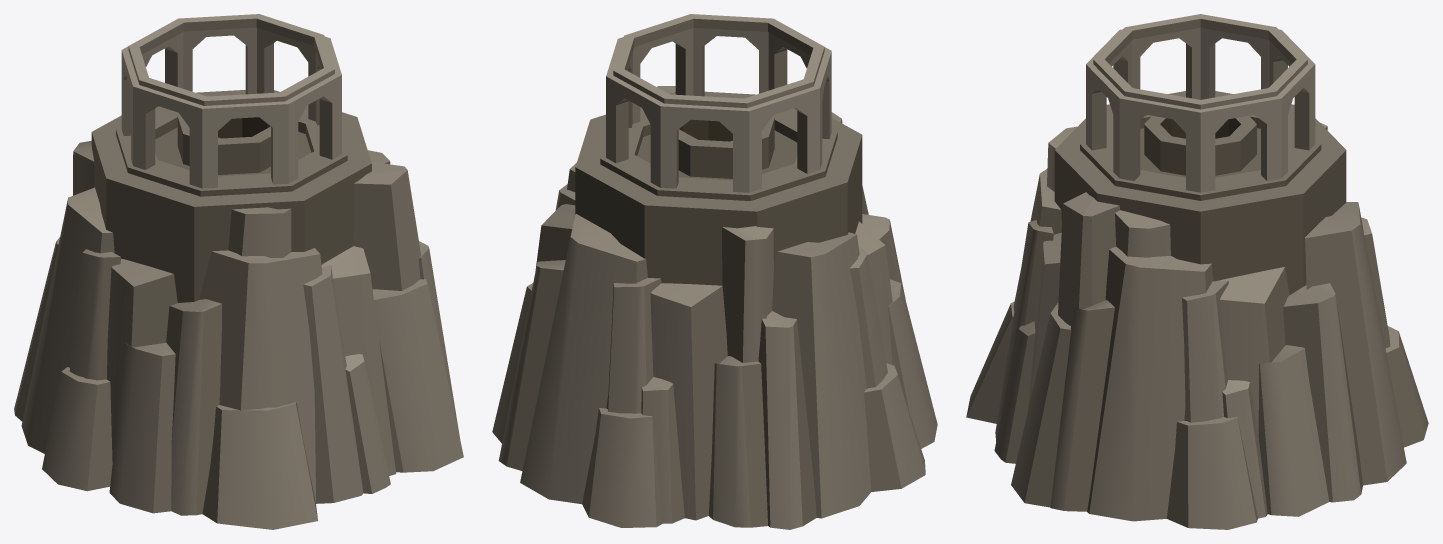
The model's file is SF_Bld_Elven_RitualStone_01.fbx.
3 views of the same model, side by side, from view 1: azimuth 30°, elevation 25°; view 2: azimuth 150°, elevation 25°; view 3: azimuth 270°, elevation 25° (orthographic). The views are drawn at different scales.
Visible parts, largest first — view 1: SF_Bld_Elven_RitualStone_01; view 2: SF_Bld_Elven_RitualStone_01; view 3: SF_Bld_Elven_RitualStone_01.
Boxes of the visible parts, <box> form: SF_Bld_Elven_RitualStone_01: <box>14,14,463,529</box>; SF_Bld_Elven_RitualStone_01: <box>492,14,937,529</box>; SF_Bld_Elven_RitualStone_01: <box>966,14,1428,529</box>.
Bounding box in the file's own units: 21.86 × 20.01 × 22.49.
